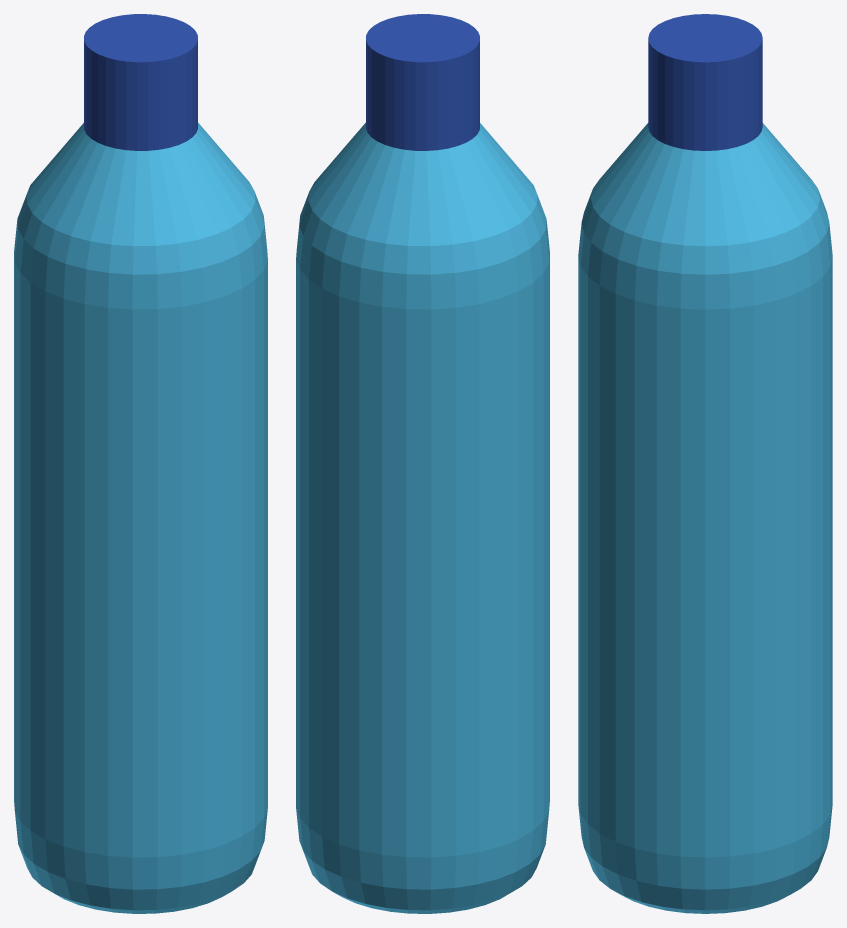
Rendered from Water.fbx.
The picture shows the model from 3 angles, left to right: view 1: azimuth 30°, elevation 25°; view 2: azimuth 150°, elevation 25°; view 3: azimuth 270°, elevation 25°; orthographic projection.
Parts seen in each view (by area): view 1: Cylinder.001; view 2: Cylinder.001; view 3: Cylinder.001.
Boxes of the visible parts, x1,y1,x2,y2 form: Cylinder.001: [14, 14, 267, 913]; Cylinder.001: [296, 14, 549, 913]; Cylinder.001: [578, 14, 832, 913].
Size of the model in its own units: 6.78 by 24.48 by 6.78.
